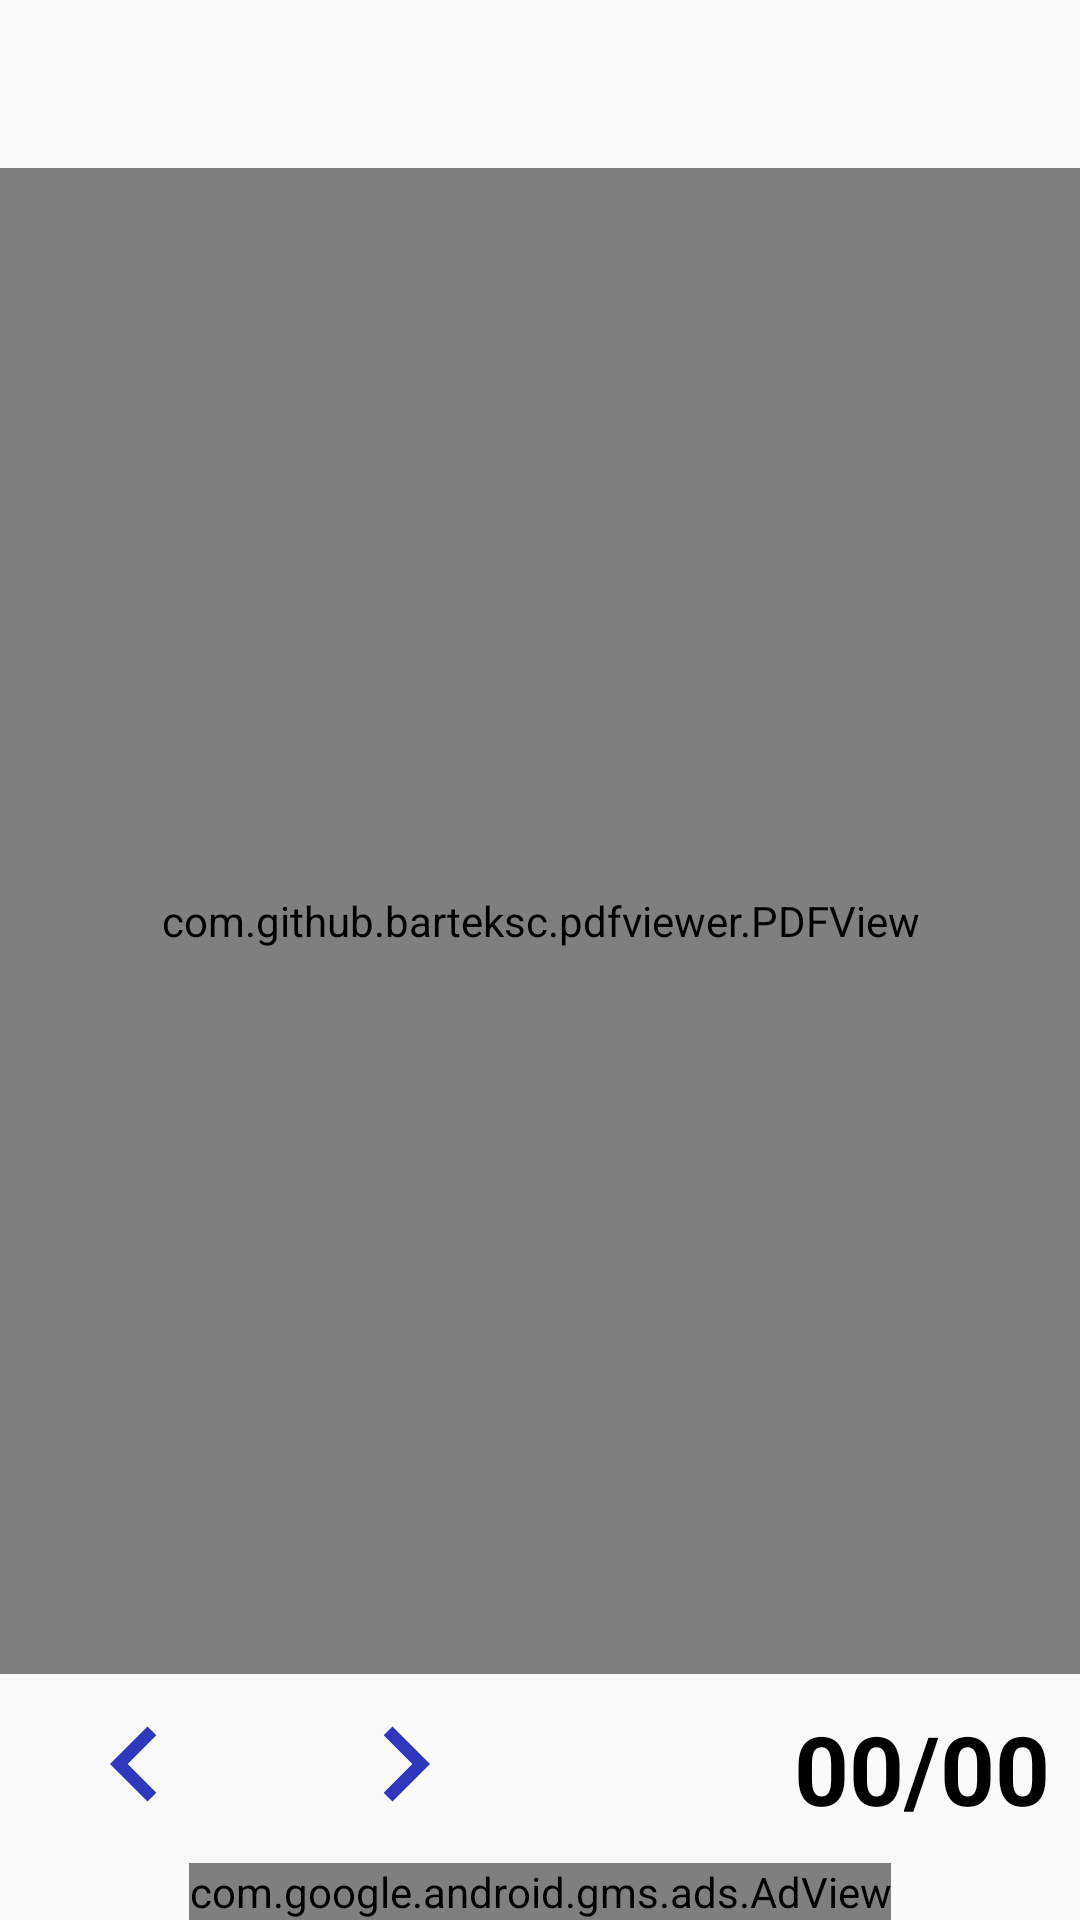

Named icons in this screenshot (1080w x 1920h) and their bounding boxes, {"x1": x1, "y1": y1, "x2": x2, "y2": y2}:
chevron left: {"x1": 110, "y1": 1726, "x2": 156, "y2": 1802}
chevron right: {"x1": 384, "y1": 1726, "x2": 430, "y2": 1802}
